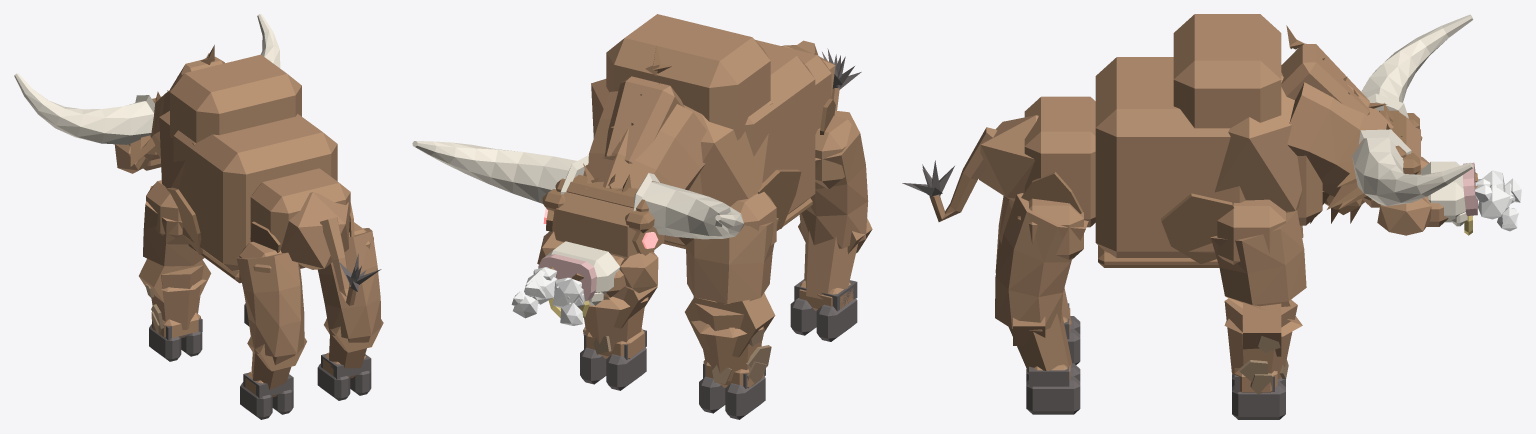
File: Brisket.fbx
3 views of the same model, side by side, from view 1: azimuth 30°, elevation 25°; view 2: azimuth 150°, elevation 25°; view 3: azimuth 270°, elevation 25° (orthographic). The views are drawn at different scales.
Visible parts, largest first — view 1: Brisket_Body_Chestnut, Brisket_LegUpperB_L_Chestnut, Brisket_Horn_L_Horn, Brisket_LegUpperB_R_Chestnut, Brisket_LegLowerF_L_Chestnut, Brisket_LegUpperF_L_Chestnut, Brisket_Markings_ChestnutDark, Brisket_HoofB_R_Hoof, Brisket_HoofB_L_Hoof, Brisket_LegLowerB_L_Chestnut, Brisket_LegLowerB_R_Chestnut, Brisket_HoofF_L_Hoof (+6 smaller); view 2: Brisket_Body_Chestnut, Brisket_Neck_Chestnut, Brisket_LegUpperF_L_Chestnut, Brisket_LegUpperB_L_Chestnut, Brisket_Head_Chestnut, Brisket_Horn_R_Horn, Brisket_LegLowerF_L_Chestnut, Brisket_Horn_L_Horn, Brisket_LegLowerB_L_Chestnut, Brisket_LegLowerF_R_Chestnut, Brisket_Brow_ChestnutDark, Brisket_HoofB_L_Hoof (+9 smaller); view 3: Brisket_Body_Chestnut, Brisket_LegUpperB_R_Chestnut, Brisket_Neck_Chestnut, Brisket_LegUpperF_R_Chestnut, Brisket_Markings_ChestnutDark, Brisket_Horn_R_Horn, Brisket_LegLowerF_R_Chestnut, Brisket_Horn_L_Horn, Brisket_LegLowerB_R_Chestnut, Brisket_Head_Chestnut, Brisket_HoofB_R_Hoof, Brisket_HoofF_R_Hoof (+10 smaller).
Boxes of the visible parts, bbox=[...] form: Brisket_Body_Chestnut: bbox=[159, 54, 350, 270]; Brisket_LegUpperB_L_Chestnut: bbox=[236, 241, 304, 356]; Brisket_Horn_L_Horn: bbox=[14, 73, 154, 144]; Brisket_LegUpperB_R_Chestnut: bbox=[317, 222, 381, 338]; Brisket_LegLowerF_L_Chestnut: bbox=[139, 258, 211, 338]; Brisket_LegUpperF_L_Chestnut: bbox=[143, 180, 206, 291]; Brisket_Markings_ChestnutDark: bbox=[166, 187, 354, 283]; Brisket_HoofB_R_Hoof: bbox=[317, 353, 371, 400]; Brisket_HoofB_L_Hoof: bbox=[240, 372, 293, 419]; Brisket_LegLowerB_L_Chestnut: bbox=[245, 336, 306, 397]; Brisket_LegLowerB_R_Chestnut: bbox=[323, 318, 383, 378]; Brisket_HoofF_L_Hoof: bbox=[149, 318, 202, 361]; Brisket_Body_Chestnut: bbox=[591, 14, 835, 245]; Brisket_Neck_Chestnut: bbox=[583, 76, 706, 190]; Brisket_LegUpperF_L_Chestnut: bbox=[686, 192, 778, 337]; Brisket_LegUpperB_L_Chestnut: bbox=[799, 110, 868, 248]; Brisket_Head_Chestnut: bbox=[537, 192, 664, 297]; Brisket_Horn_R_Horn: bbox=[412, 141, 588, 203]; Brisket_LegLowerF_L_Chestnut: bbox=[685, 293, 775, 388]; Brisket_Horn_L_Horn: bbox=[633, 173, 743, 239]; Brisket_LegLowerB_L_Chestnut: bbox=[798, 218, 872, 311]; Brisket_LegLowerF_R_Chestnut: bbox=[584, 286, 657, 358]; Brisket_Brow_ChestnutDark: bbox=[542, 163, 659, 253]; Brisket_HoofB_L_Hoof: bbox=[790, 279, 857, 341]; Brisket_Body_Chestnut: bbox=[979, 14, 1322, 257]; Brisket_LegUpperB_R_Chestnut: bbox=[995, 193, 1088, 331]; Brisket_Neck_Chestnut: bbox=[1281, 43, 1393, 196]; Brisket_LegUpperF_R_Chestnut: bbox=[1210, 199, 1306, 336]; Brisket_Markings_ChestnutDark: bbox=[1021, 172, 1233, 267]; Brisket_Horn_R_Horn: bbox=[1352, 129, 1473, 205]; Brisket_LegLowerF_R_Chestnut: bbox=[1224, 298, 1297, 392]; Brisket_Horn_L_Horn: bbox=[1361, 14, 1473, 118]; Brisket_LegLowerB_R_Chestnut: bbox=[1008, 312, 1071, 379]; Brisket_Head_Chestnut: bbox=[1361, 117, 1448, 235]; Brisket_HoofB_R_Hoof: bbox=[1026, 363, 1080, 414]; Brisket_HoofF_R_Hoof: bbox=[1232, 374, 1285, 419].
Size of what is drawn, in the model's own units: 7.83 by 8.63 by 13.53.
